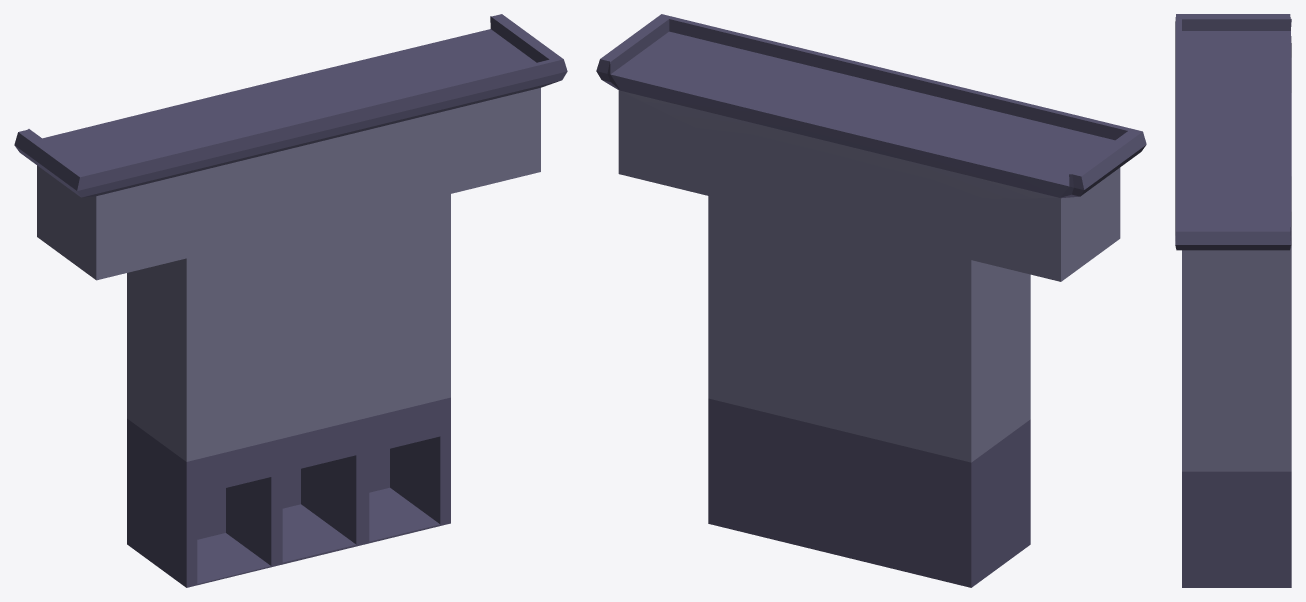
The model's file is building_T_3floors.fbx.
3 renders of one model, left to right at view 1: azimuth 30°, elevation 25°; view 2: azimuth 150°, elevation 25°; view 3: azimuth 270°, elevation 25°, orthographic. The views are drawn at different scales.
Visible parts, largest first — view 1: building_T_3floors; view 2: building_T_3floors; view 3: building_T_3floors.
Boxes of the visible parts, left/top/right/bottom form: building_T_3floors: left=14, top=14, right=567, bottom=587; building_T_3floors: left=596, top=14, right=1146, bottom=587; building_T_3floors: left=1175, top=14, right=1291, bottom=587.
Bounding box in the file's own units: 14.96 × 12.81 × 3.33.
